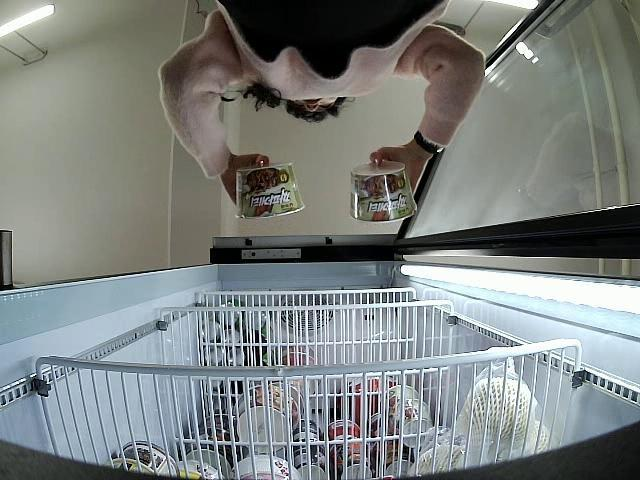03_chapagetti_L: (236, 164, 306, 221), (350, 166, 418, 223)
